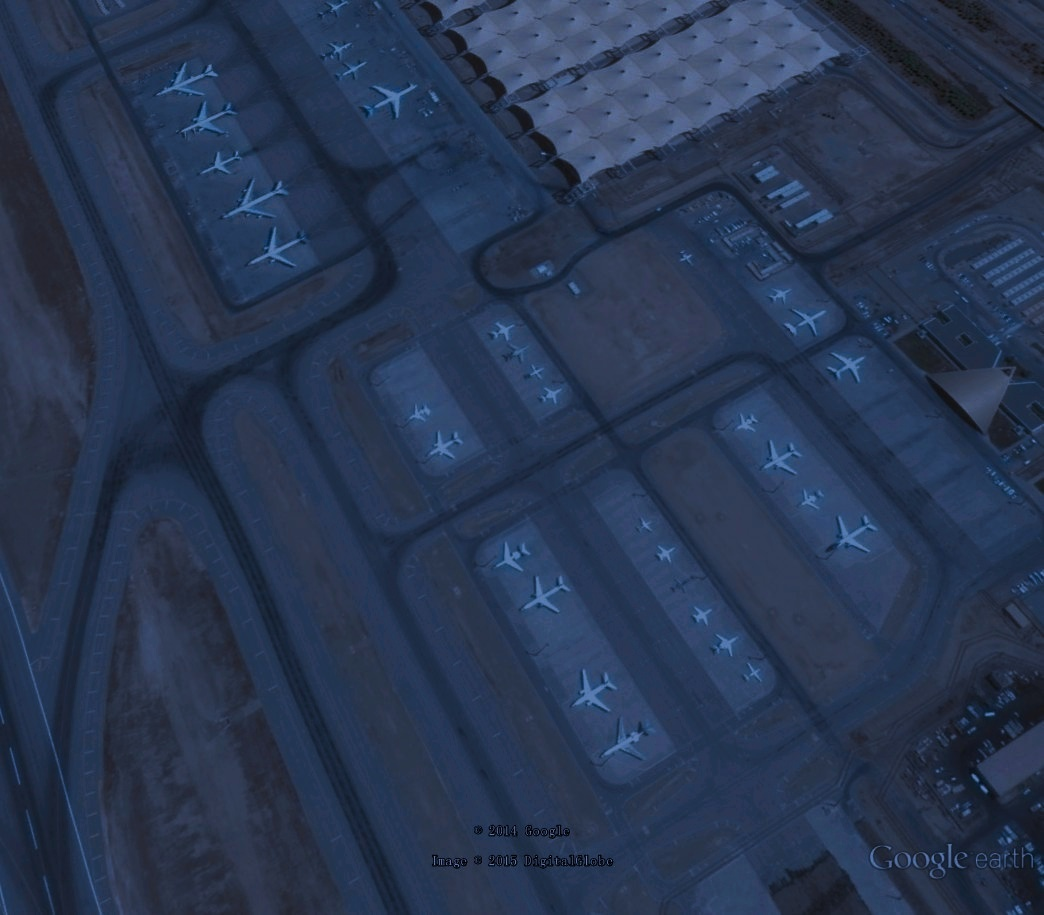aircraft: (599, 714, 660, 770), (217, 178, 292, 223), (151, 57, 225, 102), (244, 225, 314, 272), (356, 83, 423, 126), (566, 666, 620, 717), (174, 98, 241, 139), (827, 512, 883, 558), (518, 571, 575, 615), (757, 439, 806, 479), (825, 349, 869, 388), (197, 147, 247, 180), (783, 306, 830, 341), (493, 539, 534, 575), (426, 429, 466, 463), (331, 60, 372, 86), (795, 487, 828, 515), (708, 632, 740, 660), (319, 41, 357, 62), (689, 603, 717, 631), (487, 320, 517, 346), (406, 400, 435, 426), (740, 659, 766, 687), (503, 343, 534, 366), (316, 2, 351, 21), (733, 412, 763, 433), (539, 384, 564, 409), (767, 285, 793, 308), (655, 543, 679, 567), (527, 361, 548, 382), (636, 516, 655, 536), (679, 249, 695, 266)
